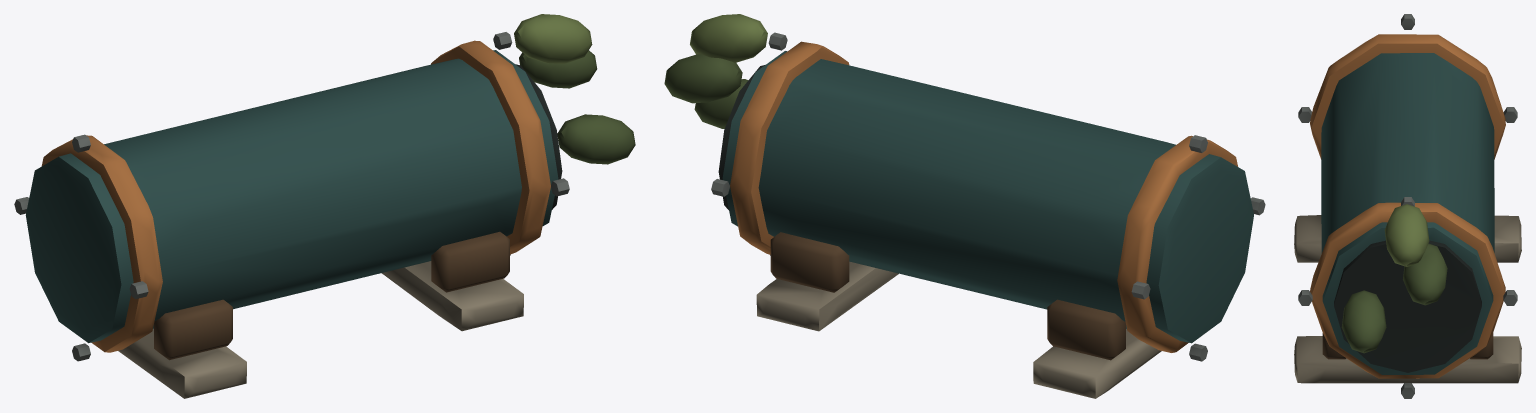
Rendered from pipe_section_a_lod1.glb.
3 views of the same model, side by side, from view 1: azimuth 30°, elevation 25°; view 2: azimuth 150°, elevation 25°; view 3: azimuth 270°, elevation 25° (orthographic). The views are drawn at different scales.
Visible parts, largest first — view 1: Surface.001; view 2: Surface.001; view 3: Surface.001.
Boxes of the visible parts, x1,y1,x2,y2 form: Surface.001: (14, 14, 635, 398); Surface.001: (664, 14, 1265, 398); Surface.001: (1294, 14, 1521, 398).
Bounding box in the file's own units: 3.89 × 1.64 × 1.6.
